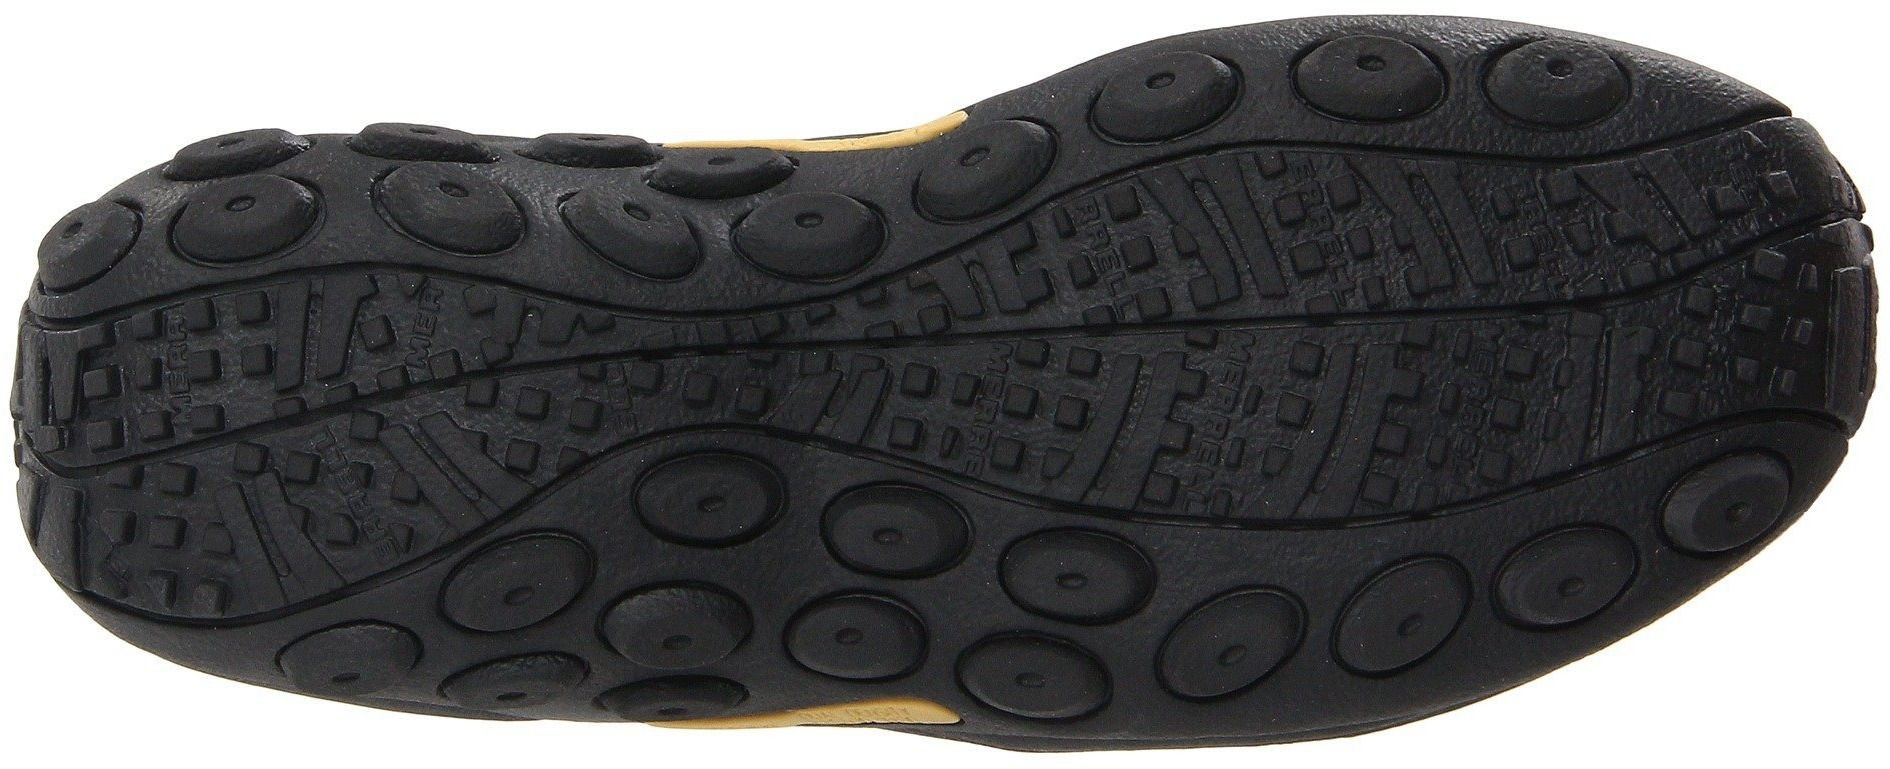circle: (573, 472, 861, 722), (999, 519, 1235, 749), (134, 93, 358, 263), (610, 133, 821, 307), (1317, 535, 1491, 702), (1481, 14, 1678, 149), (1279, 8, 1461, 149), (227, 609, 433, 722), (1648, 429, 1809, 573), (1084, 45, 1245, 160)
line: (1185, 334, 1368, 507)
quad: (1411, 313, 1601, 486), (1185, 334, 1368, 507), (324, 268, 521, 401), (906, 324, 1068, 482), (293, 438, 422, 569), (110, 325, 243, 452), (1268, 180, 1391, 303)
text: (1411, 313, 1601, 486), (1185, 334, 1368, 507), (324, 268, 521, 401), (906, 324, 1068, 482), (293, 438, 422, 569), (110, 325, 243, 452), (1268, 180, 1391, 303)
